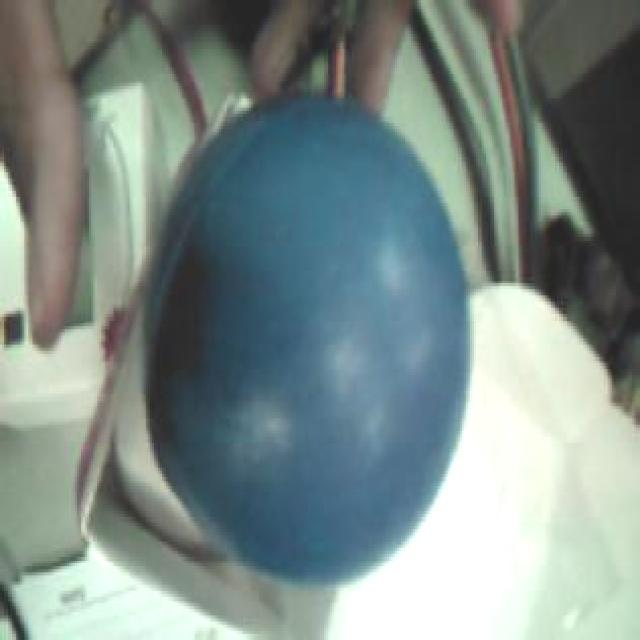BallPurple: (150, 85, 472, 579)
